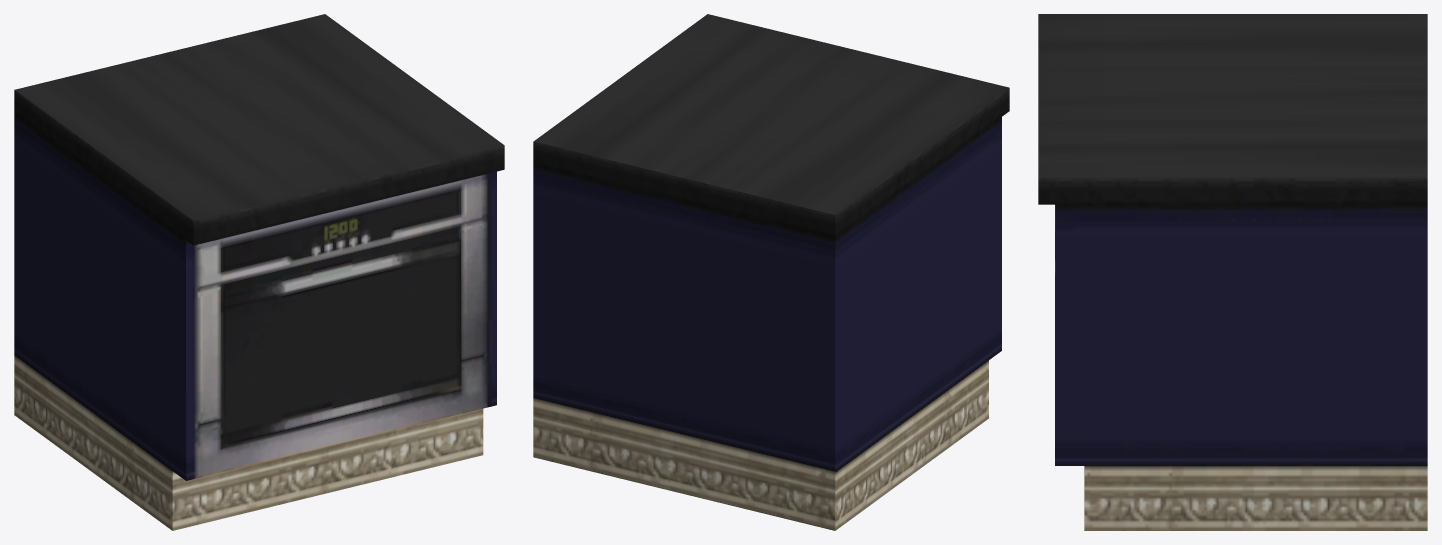
File: furni_0201123_03.FBX
3 renders of one model, left to right at view 1: azimuth 30°, elevation 25°; view 2: azimuth 150°, elevation 25°; view 3: azimuth 270°, elevation 25°, orthographic. The views are drawn at different scales.
Visible parts, largest first — view 1: furni_0201123_03; view 2: furni_0201123_03; view 3: furni_0201123_03.
Boxes of the visible parts, left/top/right/bottom form: furni_0201123_03: left=14, top=14, right=504, bottom=530; furni_0201123_03: left=533, top=14, right=1009, bottom=530; furni_0201123_03: left=1038, top=14, right=1427, bottom=530.
Size of the model in its own units: 80 by 80 by 80.
1 material, 1 textured.
